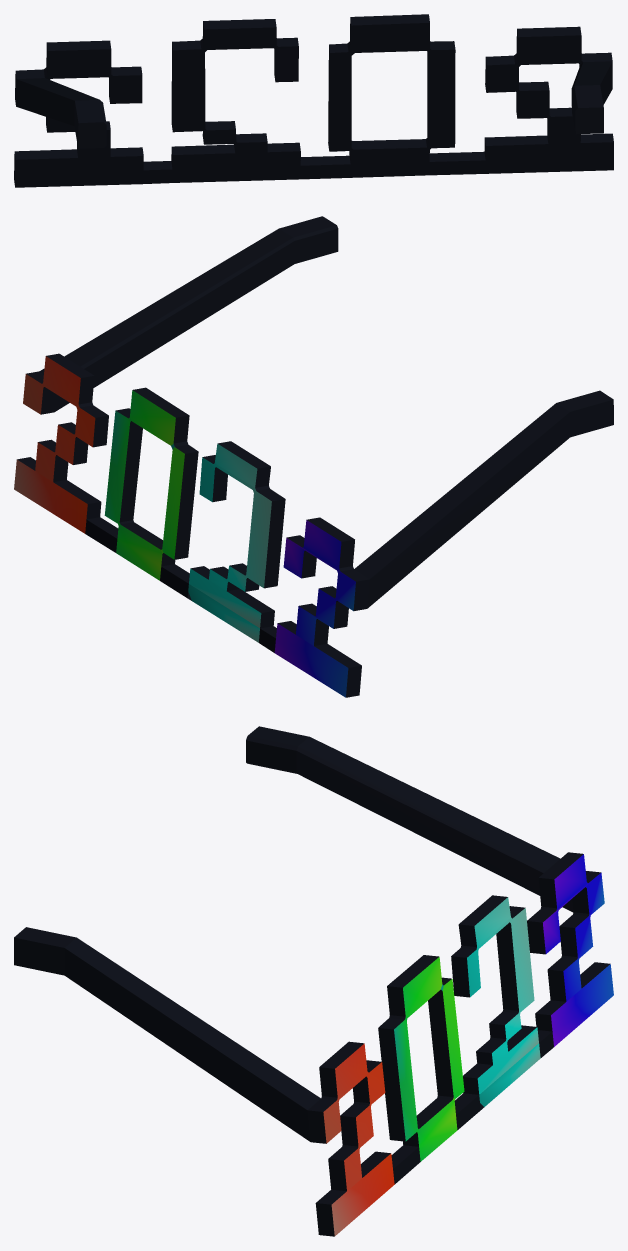
The model's file is 2022 GLASSES.fbx.
3 renders of one model, top to bottom at view 1: azimuth 30°, elevation 25°; view 2: azimuth 150°, elevation 25°; view 3: azimuth 270°, elevation 25°, orthographic. The views are drawn at different scales.
Parts seen in each view (by area): view 1: _2022_GLASSES; view 2: _2022_GLASSES; view 3: _2022_GLASSES.
Boxes of the visible parts, x1,y1,x2,y2 form: _2022_GLASSES: [14, 14, 613, 187]; _2022_GLASSES: [14, 216, 613, 697]; _2022_GLASSES: [14, 726, 613, 1236].
Bounding box in the file's own units: 33.01 × 11.39 × 28.39.
